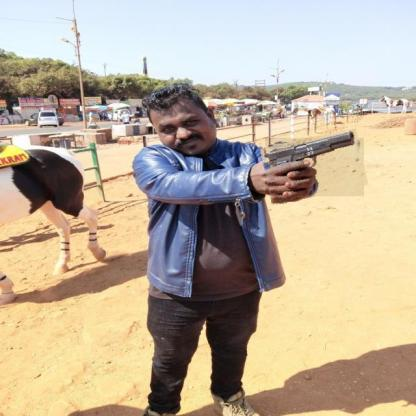handgun: (262, 133, 366, 201)
